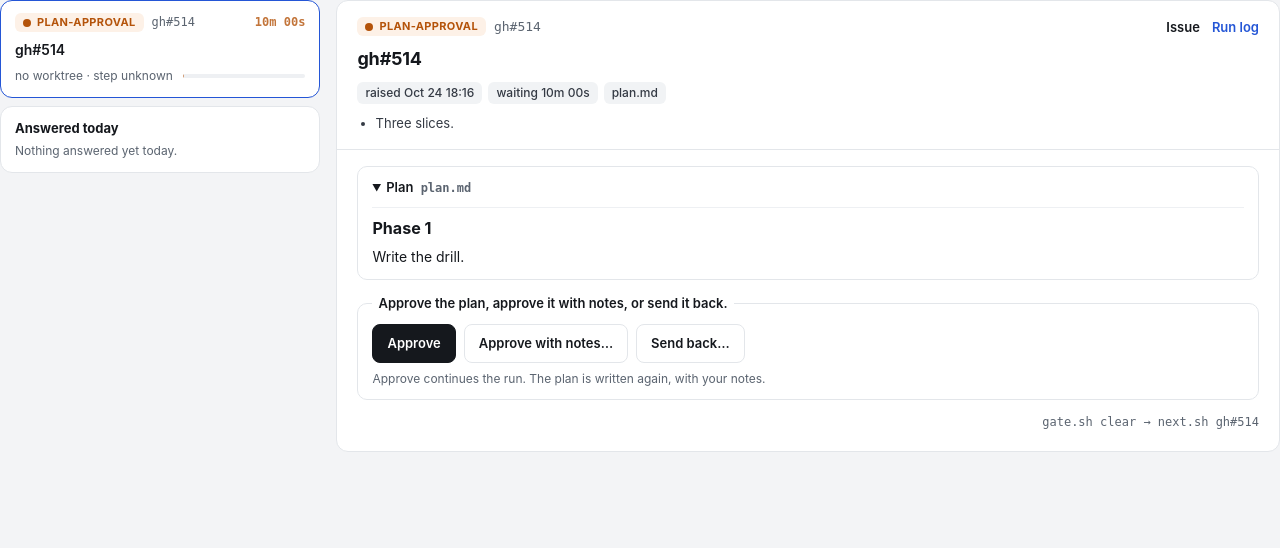
it: PlanGate_CancelNotes_TheThreeChoicesAgain
Click the button "Send back…" at (690, 344), box x1=636 y1=324 x2=745 y2=363
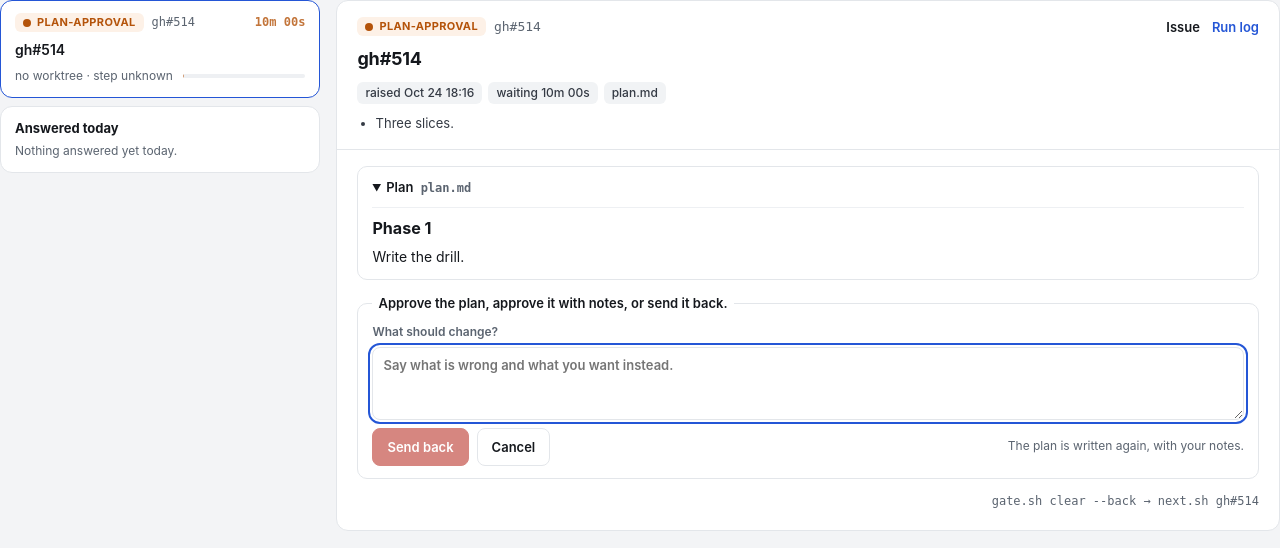
Click the button "Cancel" at (513, 447), box x1=477 y1=428 x2=550 y2=466
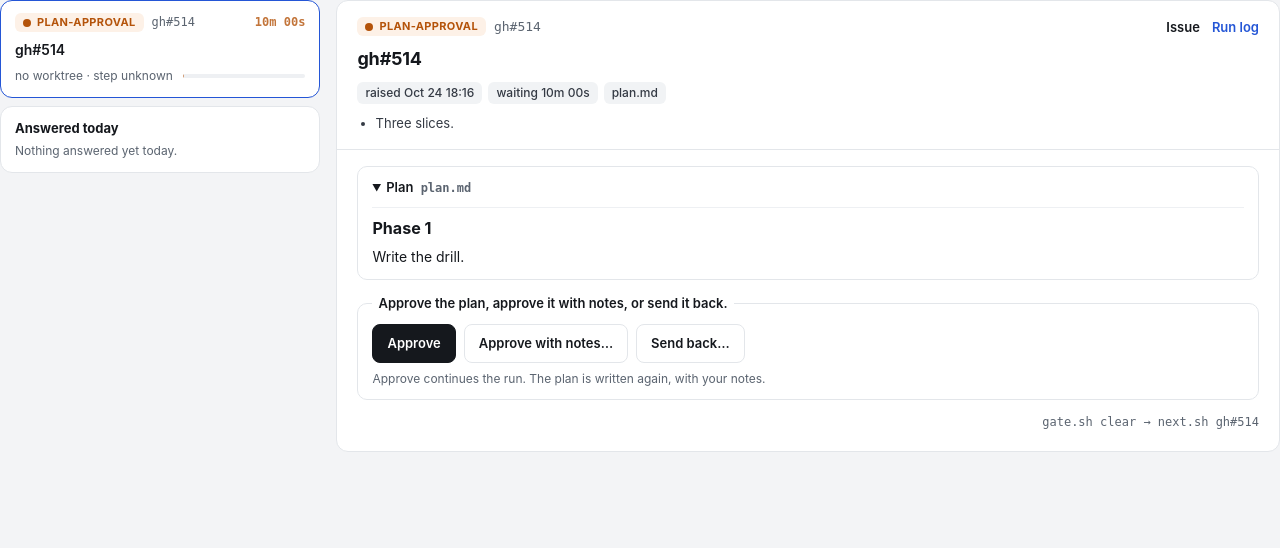
Check: the button "Approve" is shown, box x1=372 y1=324 x2=456 y2=363
